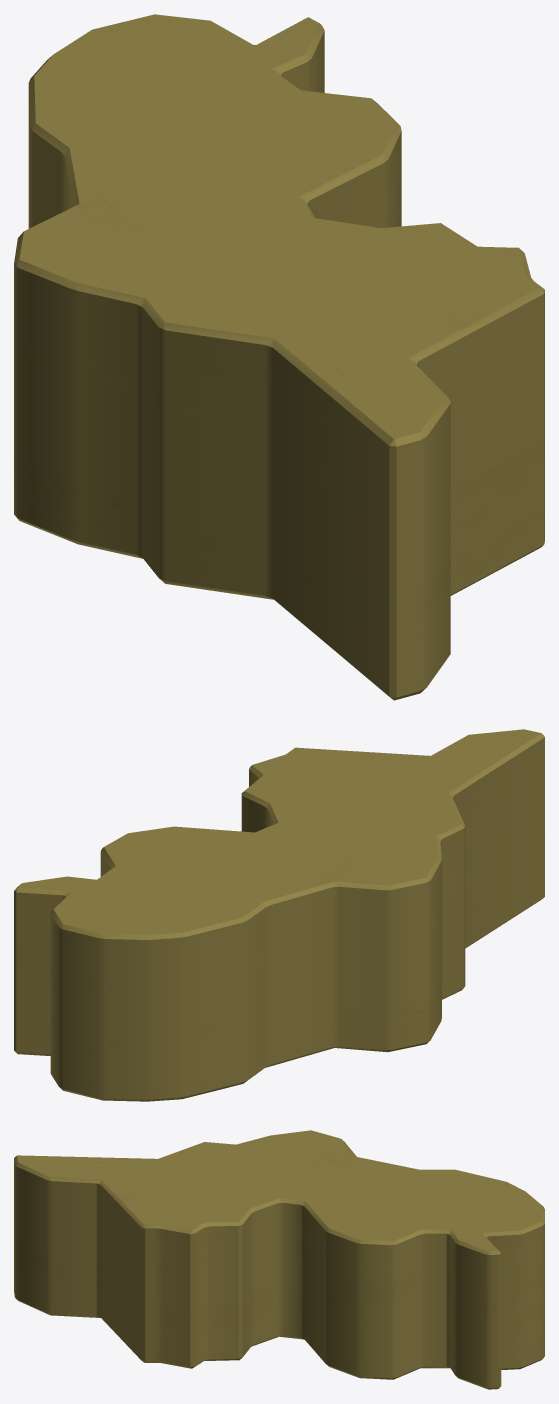
File: tunisia.DAE
The picture shows the model from 3 angles, top to bottom: view 1: azimuth 30°, elevation 25°; view 2: azimuth 150°, elevation 25°; view 3: azimuth 270°, elevation 25°; orthographic projection. The views are drawn at different scales.
Parts seen in each view (by area): view 1: Tunisia; view 2: Tunisia; view 3: Tunisia.
Boxes of the visible parts, x1,y1,x2,y2 form: Tunisia: (14,14,544,700); Tunisia: (14,729,544,1101); Tunisia: (14,1130,544,1389).
Size of the model in its own units: 47.66 by 86.88 by 25.
Materials: 1 (1 with a texture image).
